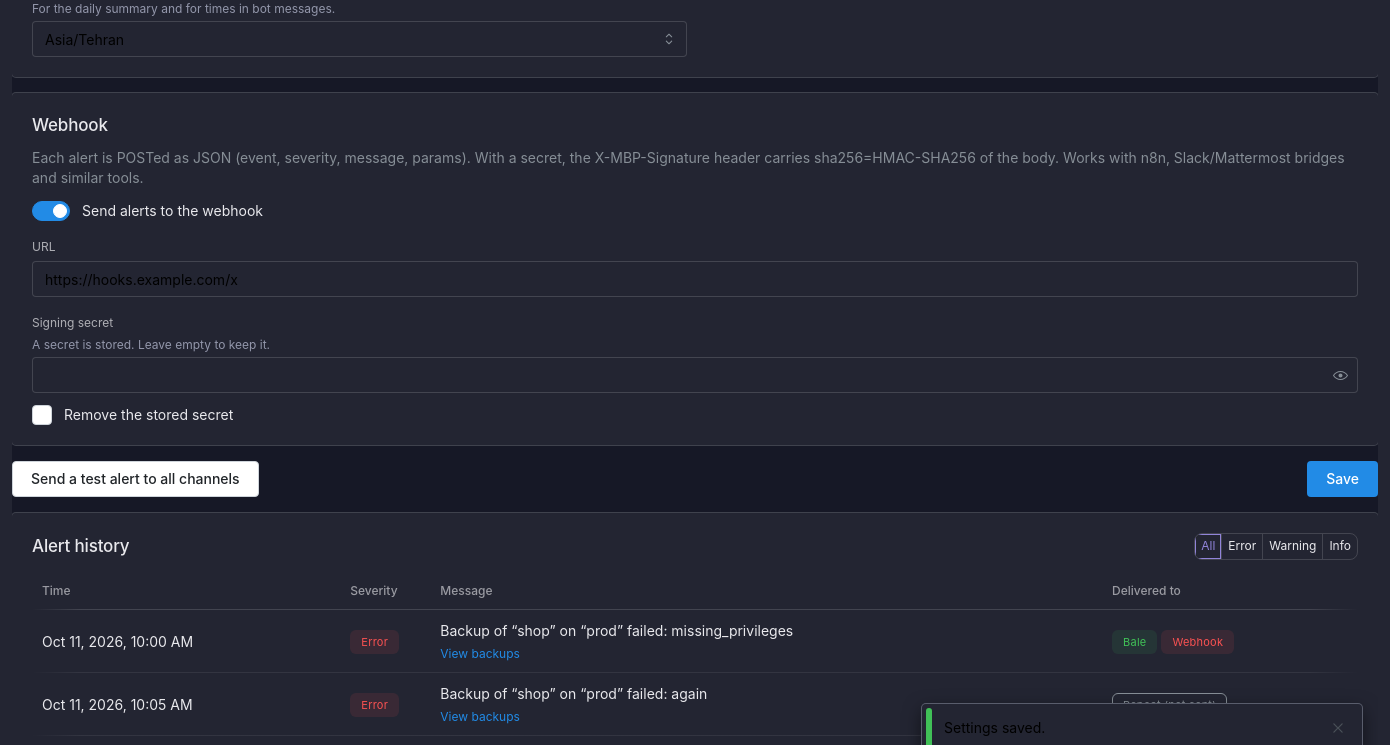
Test: NotificationsPage › shows test results per channel
The image size is (1390, 745).
(page scrolled)
Click the button "Send a test alert to all channels". click: click(135, 479)
box: [12,461,259,497]
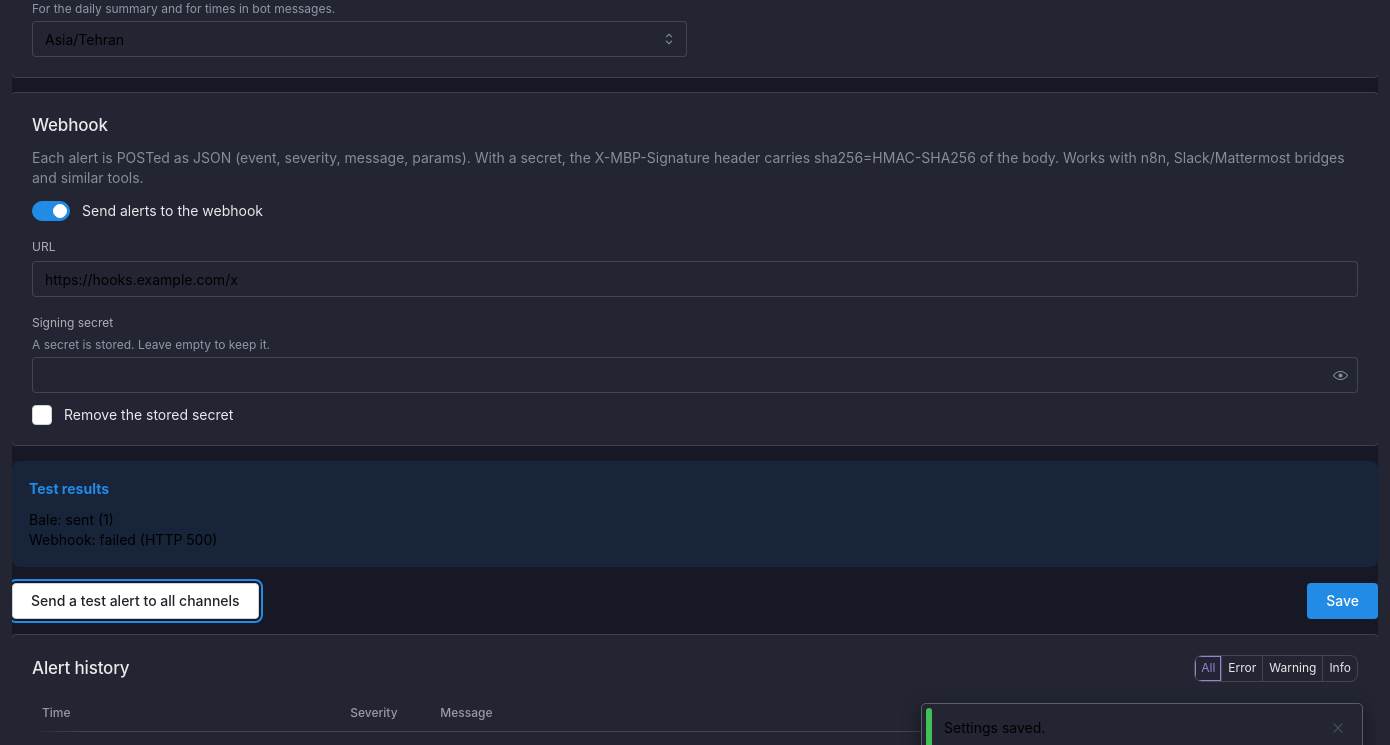
expect the message with test id "test-results" shows "Bale: sent": met, box [12,461,1378,568]
expect the message with test id "test-results" shows "Webhook: failed": met, box [12,461,1378,568]
